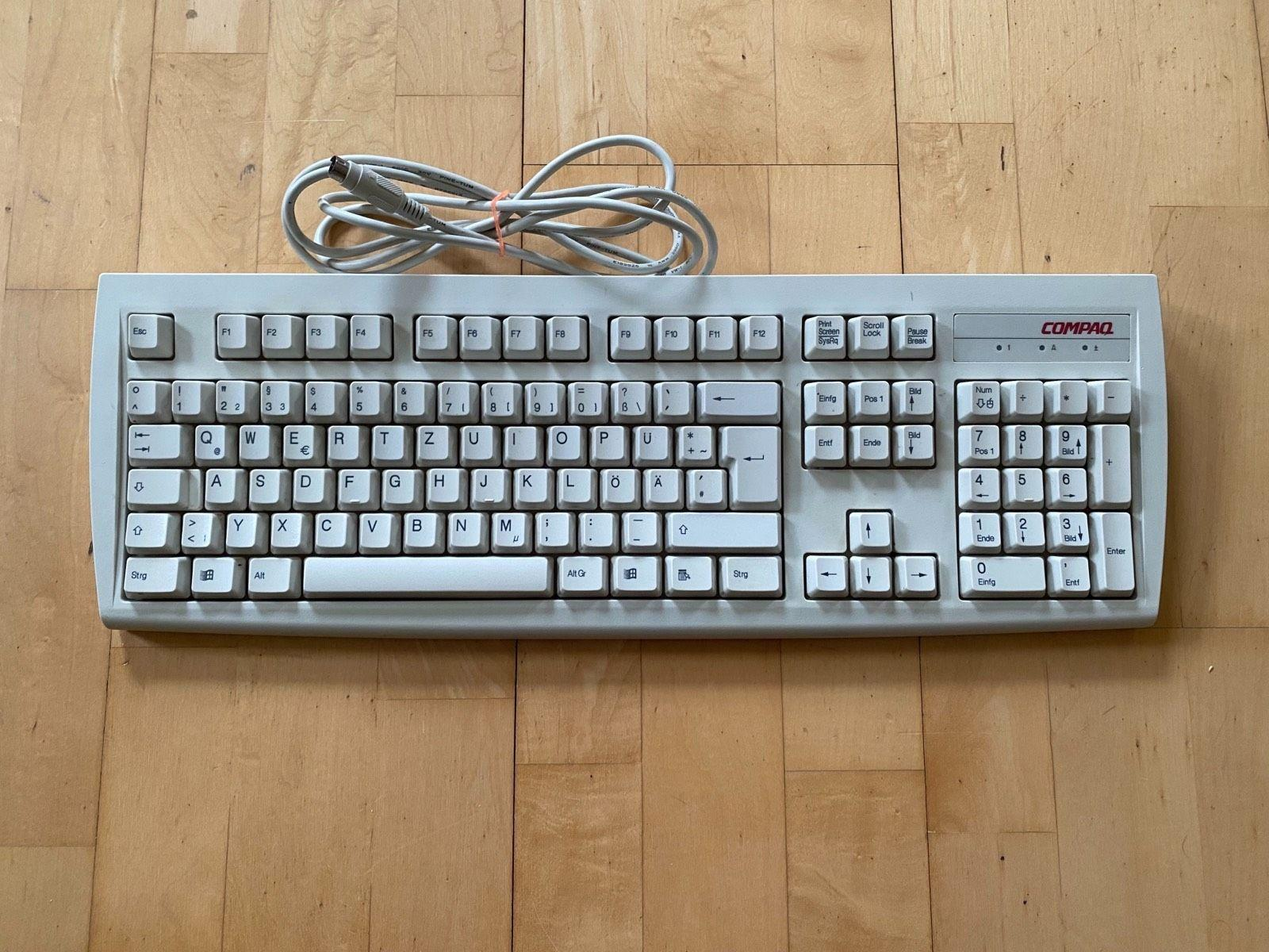0: (567, 378, 606, 417)
1: (169, 378, 202, 415)
2: (214, 377, 252, 417)
3: (258, 378, 293, 419)
4: (304, 378, 337, 416)
5: (348, 378, 382, 416)
6: (392, 378, 428, 416)
7: (436, 378, 476, 416)
8: (481, 379, 518, 417)
9: (523, 378, 562, 417)
a: (203, 466, 236, 502)
accent: (654, 378, 691, 415)
ae: (642, 466, 680, 503)
alt-left: (245, 554, 292, 593)
altgr-right: (556, 552, 604, 591)
b: (401, 509, 439, 546)
c: (312, 509, 348, 547)
caret: (124, 378, 157, 414)
comma: (534, 509, 570, 547)
d: (292, 465, 325, 502)
del: (697, 378, 779, 416)
e: (281, 421, 315, 460)
enter: (718, 422, 780, 502)
f: (336, 466, 371, 503)
g: (381, 466, 416, 504)
h: (425, 465, 461, 501)
hash: (686, 466, 724, 504)
i: (503, 424, 537, 459)
j: (470, 465, 505, 502)
k: (512, 465, 550, 501)
keyboard: (90, 274, 1170, 640)
l: (556, 466, 592, 502)
less: (179, 509, 214, 547)
m: (489, 509, 528, 548)
minus: (622, 509, 658, 545)
n: (446, 509, 483, 547)
o: (546, 421, 581, 459)
oe: (600, 465, 636, 503)
p: (589, 422, 624, 459)
plus: (676, 422, 712, 460)
point: (578, 509, 614, 547)
q: (192, 421, 226, 460)
r: (326, 422, 360, 459)
s: (247, 466, 280, 503)
shift-left: (121, 510, 168, 547)
shift-lock: (125, 466, 183, 504)
shift-right: (666, 509, 780, 547)
space: (300, 553, 550, 593)
ss: (610, 378, 648, 416)
strg-left: (119, 554, 181, 593)
strg-right: (716, 553, 782, 593)
t: (370, 422, 404, 459)
tab: (125, 421, 181, 459)
u: (459, 422, 494, 459)
ue: (633, 422, 669, 460)
v: (358, 509, 393, 547)
w: (237, 421, 270, 459)
x: (270, 509, 303, 547)
y: (224, 510, 258, 546)
z: (416, 423, 449, 459)
